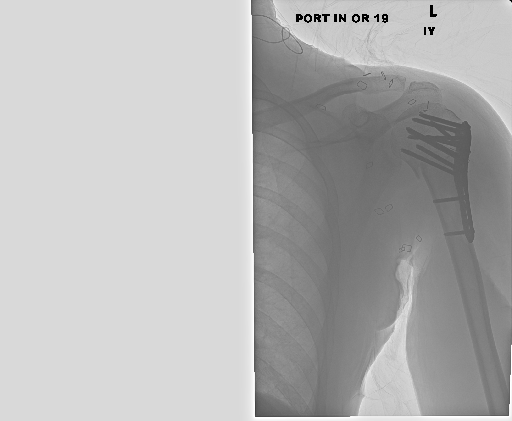implant: (402, 103, 471, 182), (425, 171, 480, 247)
